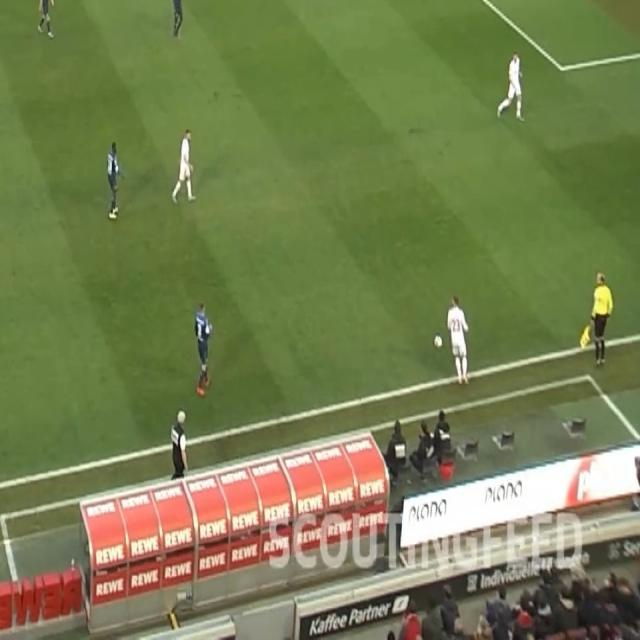ball: (433, 334, 444, 351)
